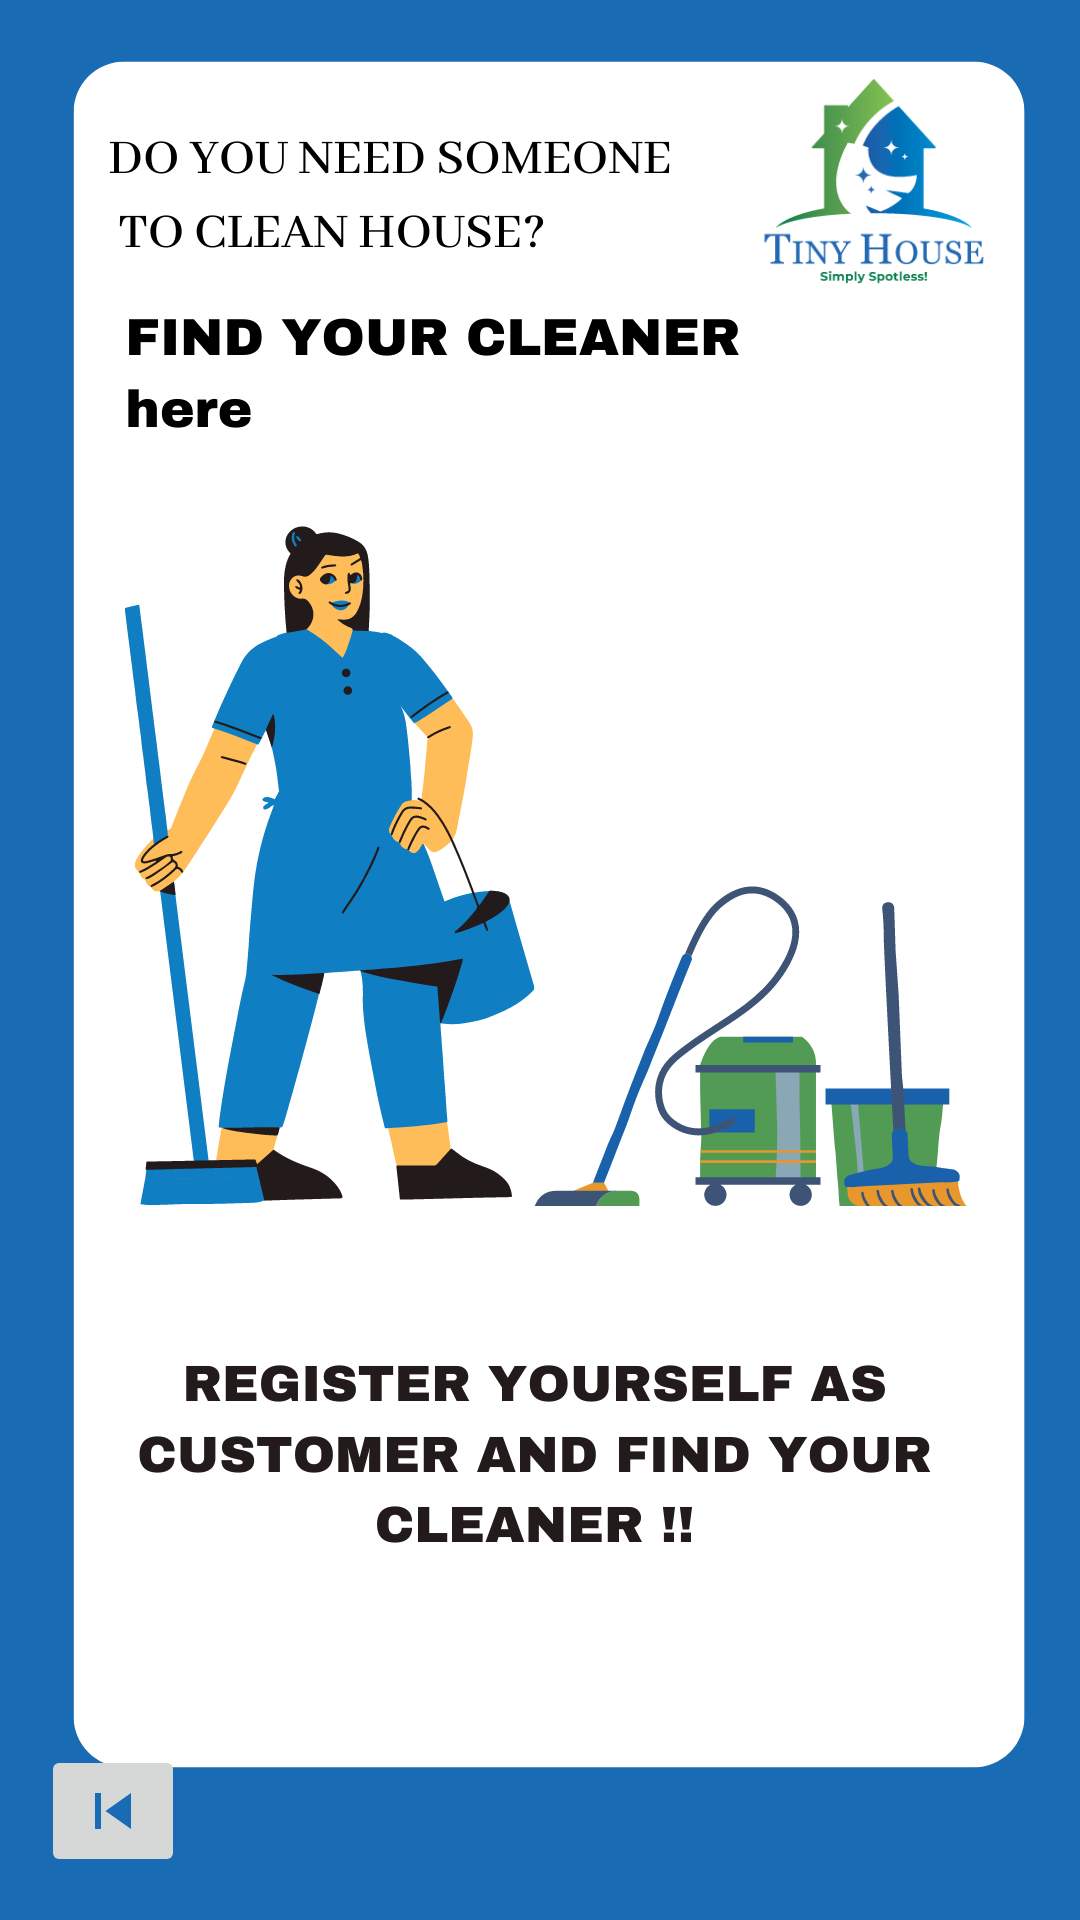

Icon bounding boxes for this 1080 × 1920 phone screenshot, format (x1, y1, x2, y2):
skip previous: (53, 1745, 185, 1859)
